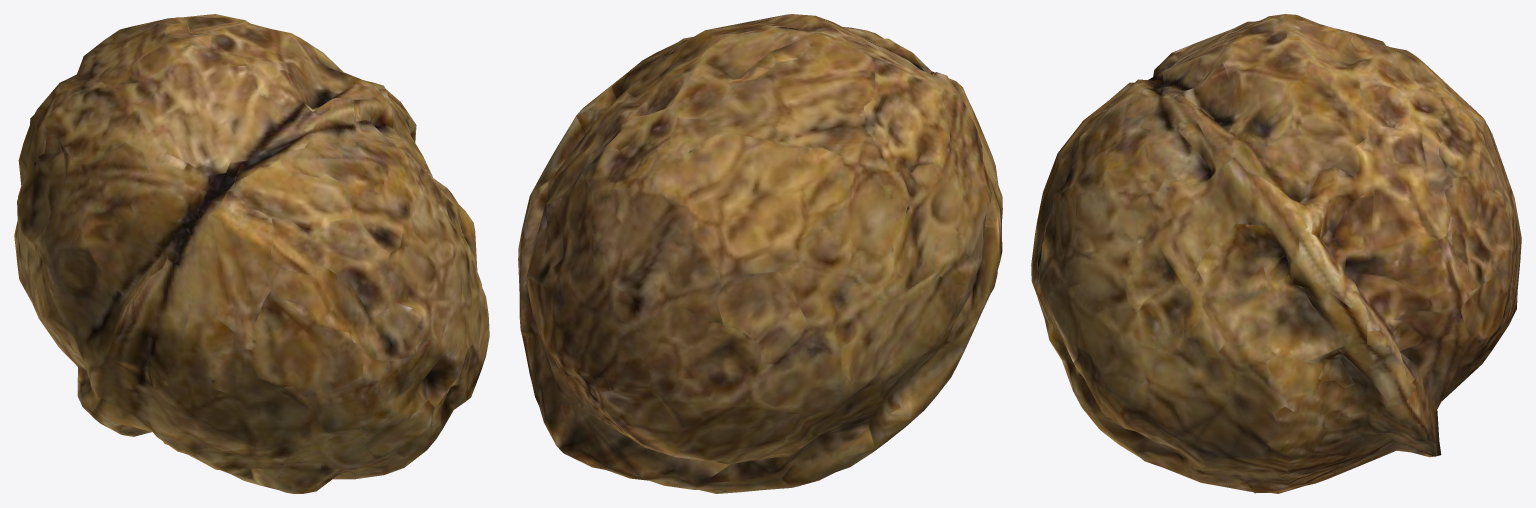
Rendered from Seed.fbx.
3 views of the same model, side by side, from view 1: azimuth 30°, elevation 25°; view 2: azimuth 150°, elevation 25°; view 3: azimuth 270°, elevation 25° (orthographic). The views are drawn at different scales.
Parts seen in each view (by area): view 1: Model:Mesh; view 2: Model:Mesh; view 3: Model:Mesh.
Part boxes in pixels (x1=…): Model:Mesh: x1=14, y1=14, x2=489, y2=493; Model:Mesh: x1=518, y1=14, x2=1002, y2=493; Model:Mesh: x1=1031, y1=14, x2=1521, y2=493.
Bounding box in the file's own units: 8.43 × 8.91 × 9.51.
Materials: 1 (1 with a texture image).
